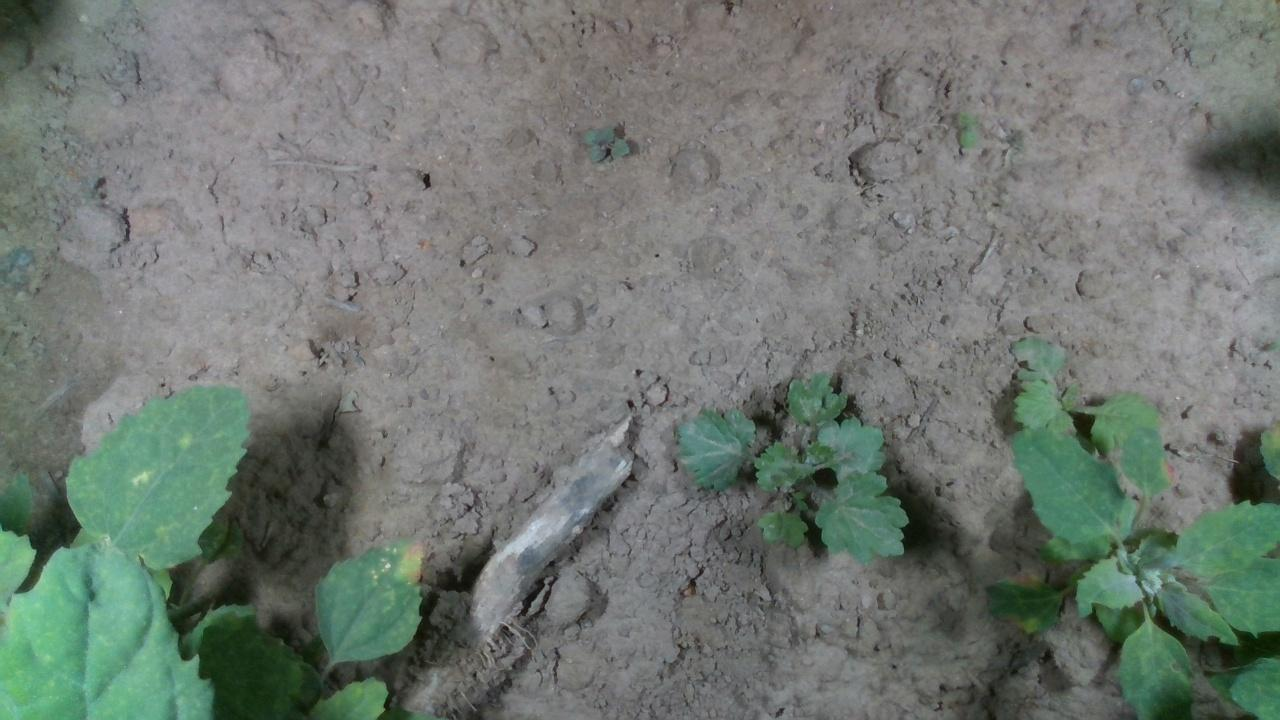weed: (578, 119, 629, 166), (952, 107, 976, 152)
